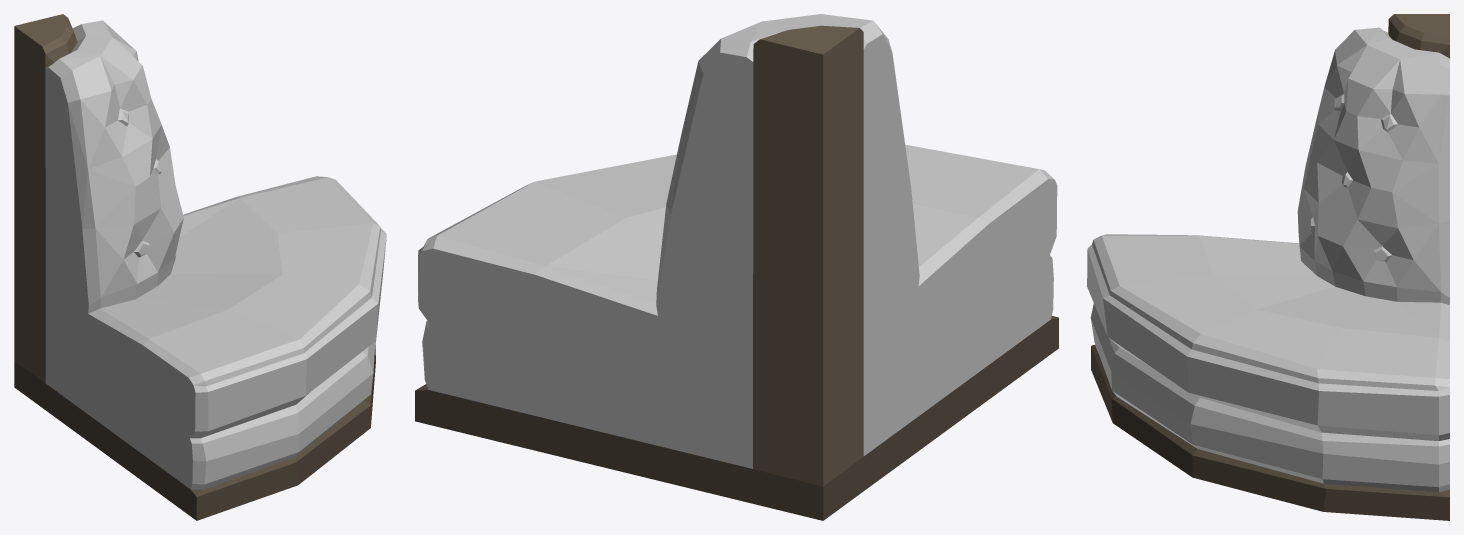
Rendered from SM_Prop_Sofa_01_Corner_07.fbx.
3 renders of one model, left to right at view 1: azimuth 30°, elevation 25°; view 2: azimuth 150°, elevation 25°; view 3: azimuth 270°, elevation 25°, orthographic. The views are drawn at different scales.
Visible parts, largest first — view 1: SM_Prop_Sofa_01_Corner_07; view 2: SM_Prop_Sofa_01_Corner_07; view 3: SM_Prop_Sofa_01_Corner_07.
Boxes of the visible parts, x1,y1,x2,y2 form: SM_Prop_Sofa_01_Corner_07: [14, 14, 386, 520]; SM_Prop_Sofa_01_Corner_07: [415, 14, 1058, 520]; SM_Prop_Sofa_01_Corner_07: [1087, 14, 1449, 520].
Bounding box in the file's own units: 103 × 111 × 103.
